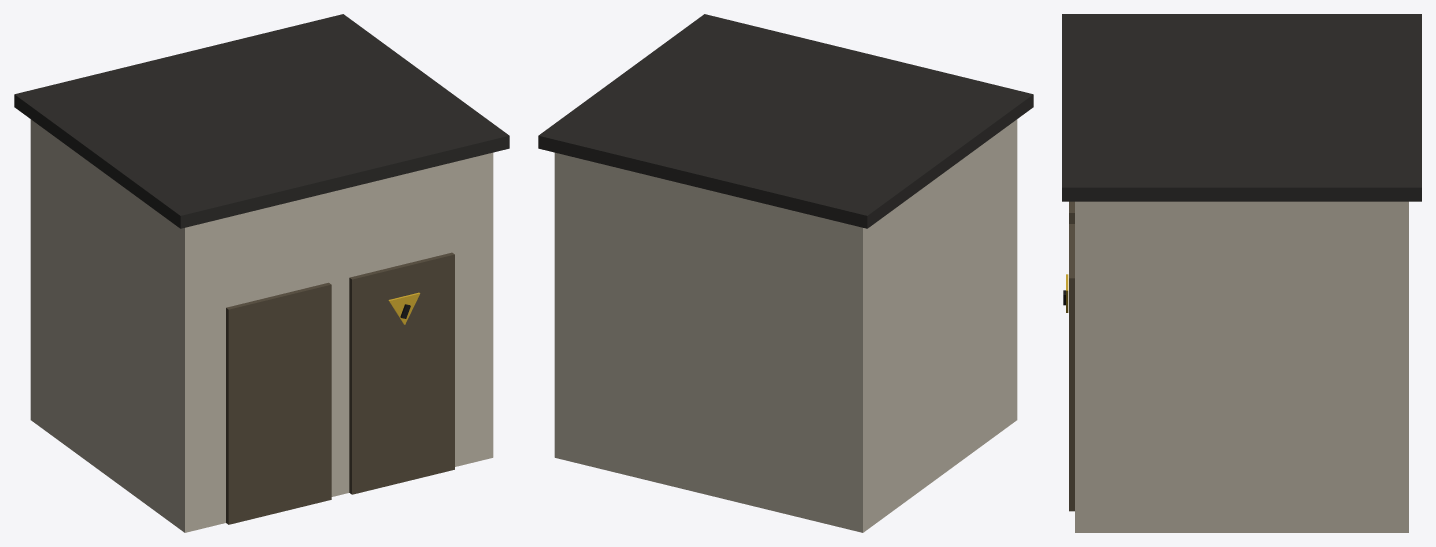
The model's file is transformer.glb.
3 renders of one model, left to right at view 1: azimuth 30°, elevation 25°; view 2: azimuth 150°, elevation 25°; view 3: azimuth 270°, elevation 25°, orthographic. The views are drawn at different scales.
Parts seen in each view (by area): view 1: Transformer; view 2: Transformer; view 3: Transformer.
Part boxes in pixels (x1,y1,x2,y2): Transformer: [14, 14, 509, 532]; Transformer: [538, 14, 1033, 532]; Transformer: [1062, 14, 1421, 532].
Bounding box in the file's own units: 3.2 × 3.01 × 2.8.
